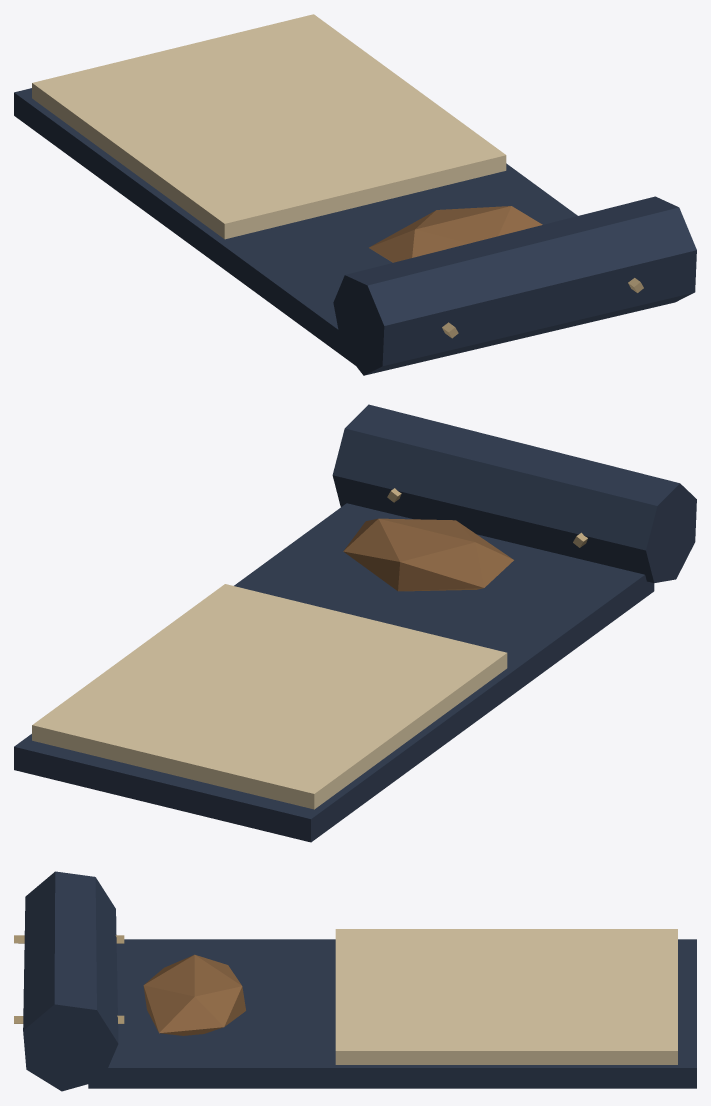
Rendered from bedroll.glb.
3 renders of one model, top to bottom at view 1: azimuth 30°, elevation 25°; view 2: azimuth 150°, elevation 25°; view 3: azimuth 270°, elevation 25°, orthographic. The views are drawn at different scales.
Visible parts, largest first — view 1: bedroll; view 2: bedroll; view 3: bedroll.
Boxes of the visible parts, x1,y1,x2,y2 form: bedroll: (14,14,696,375); bedroll: (14,404,696,842); bedroll: (14,871,696,1091).
Bounding box in the file's own units: 0.84 × 0.2542 × 1.79.
